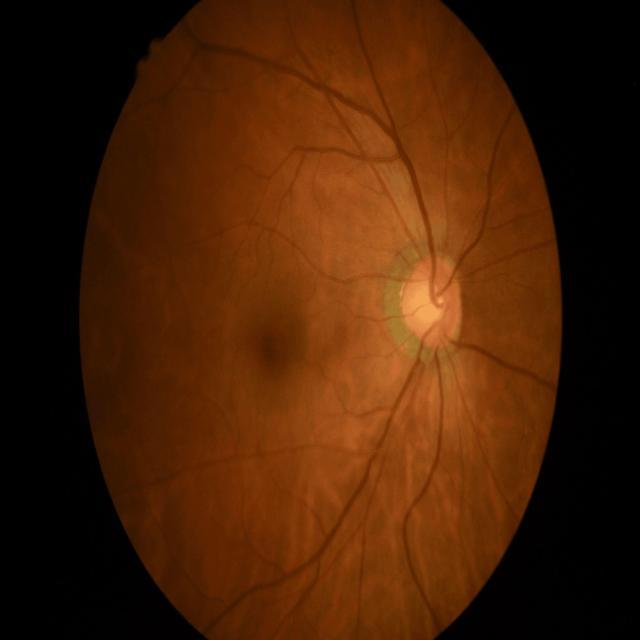cup: (410, 280, 448, 330)
disk: (400, 254, 464, 350)
